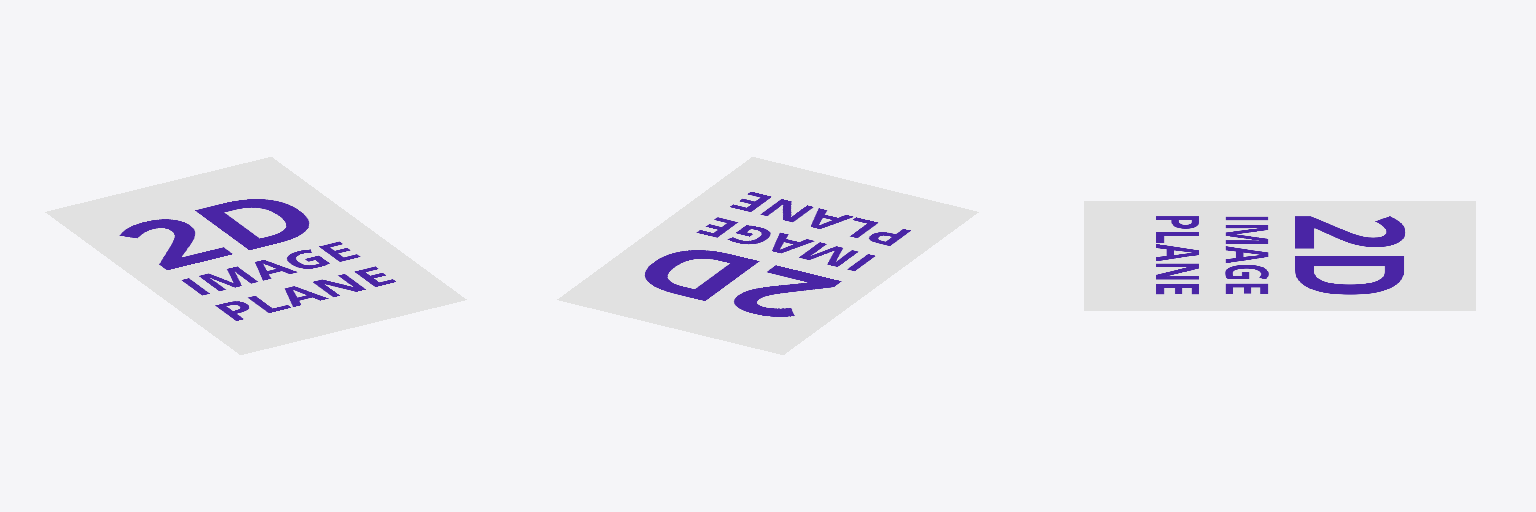
3 views of the same model, side by side, from view 1: azimuth 30°, elevation 25°; view 2: azimuth 150°, elevation 25°; view 3: azimuth 270°, elevation 25° (orthographic).
Parts seen in each view (by area): view 1: 000_Image_Plane; view 2: 000_Image_Plane; view 3: 000_Image_Plane.
Boxes of the visible parts, <box> form: 000_Image_Plane: <box>45,157,466,354</box>; 000_Image_Plane: <box>557,157,978,354</box>; 000_Image_Plane: <box>1084,201,1475,310</box>.
Size of the model in its own units: 171 by 0 by 256.
1 materials, 1 textured.